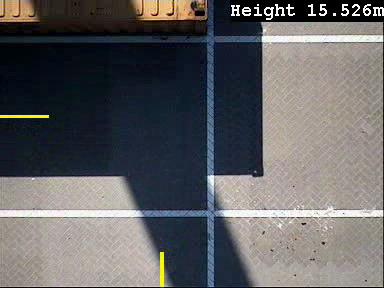groundmarker_2: (154, 33, 225, 72)
